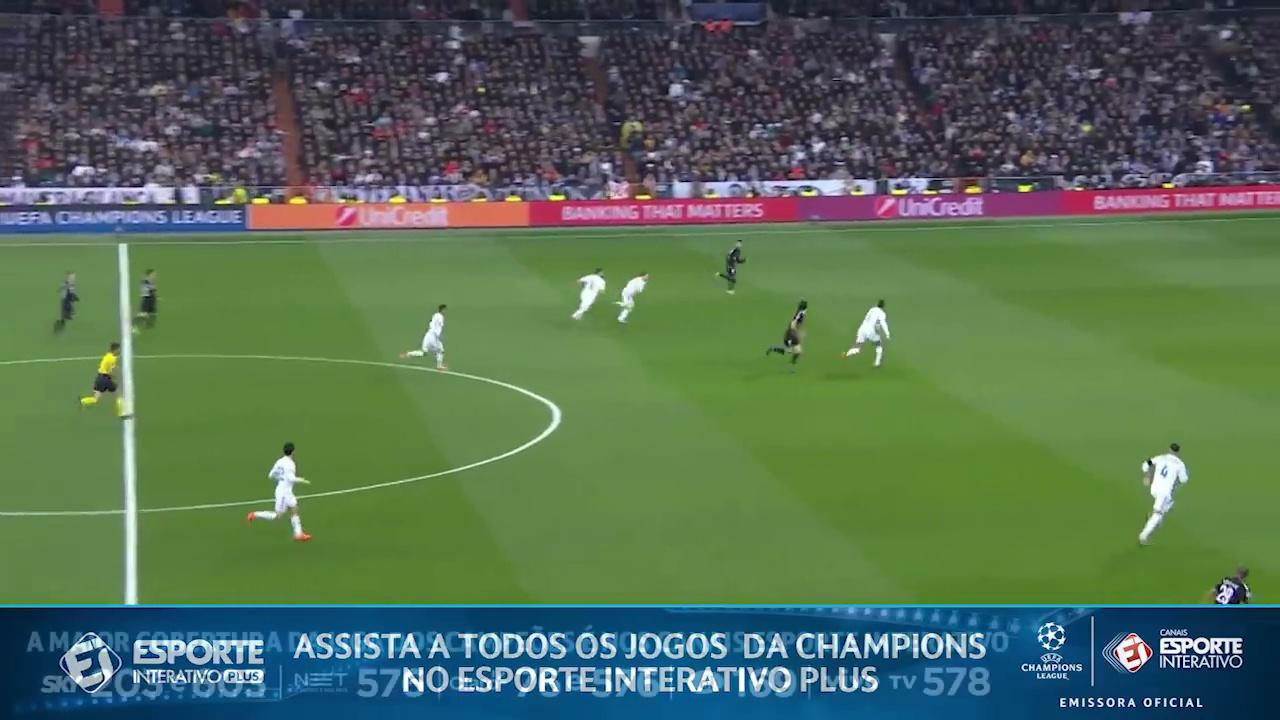player: (246, 442, 310, 540), (1139, 444, 1187, 544), (844, 300, 890, 367), (401, 304, 446, 370), (766, 300, 807, 364), (572, 268, 605, 319), (1208, 566, 1251, 604), (53, 272, 79, 332), (133, 269, 157, 333), (617, 272, 648, 321), (716, 241, 744, 293)
referee: (80, 342, 120, 406)
